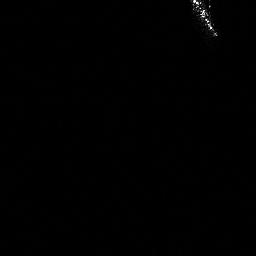ship: (187, 1, 221, 39)
